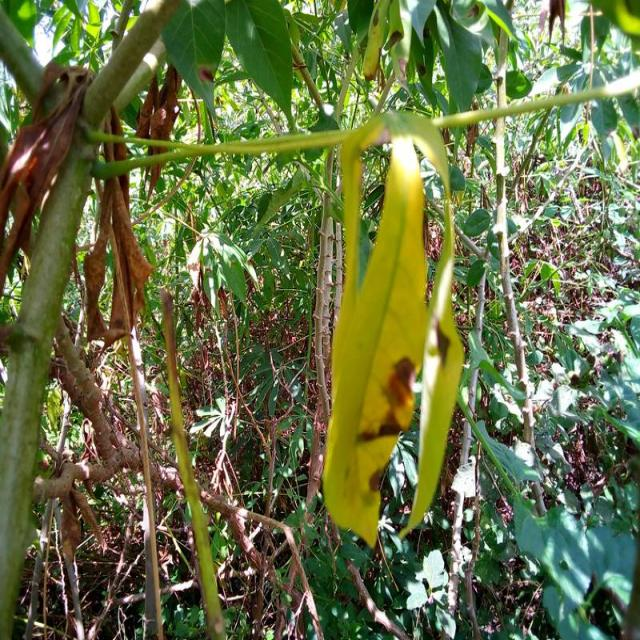cassava leaf: (321, 109, 462, 548)
